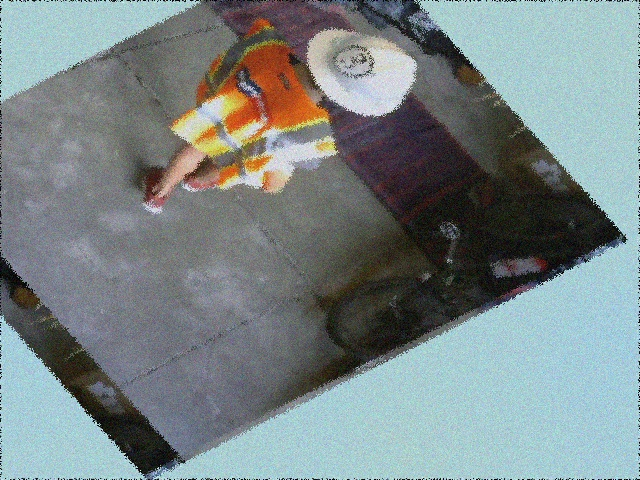three: (326, 40, 381, 82)
